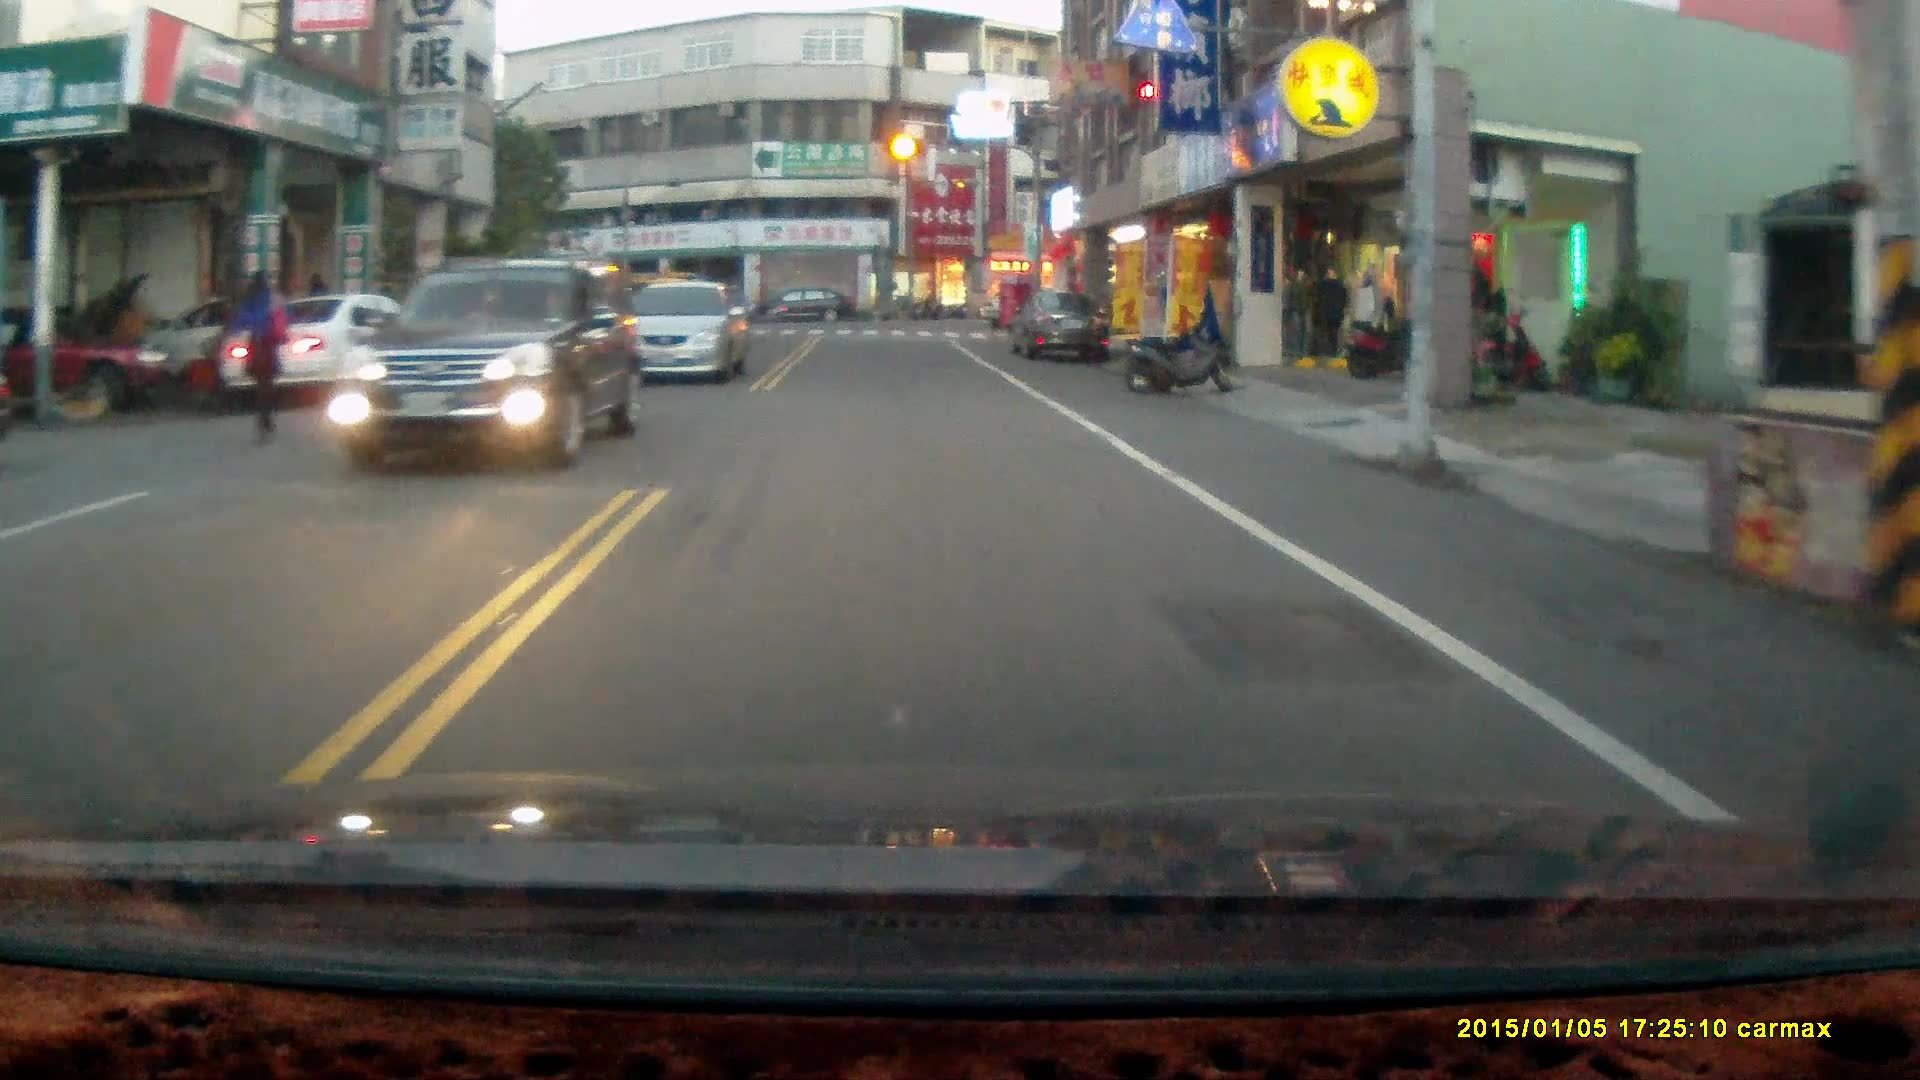pedestrian: (229, 268, 286, 444)
vehicle: (331, 257, 642, 471), (211, 294, 471, 410), (619, 277, 748, 385), (1008, 286, 1110, 369), (753, 285, 857, 330)
